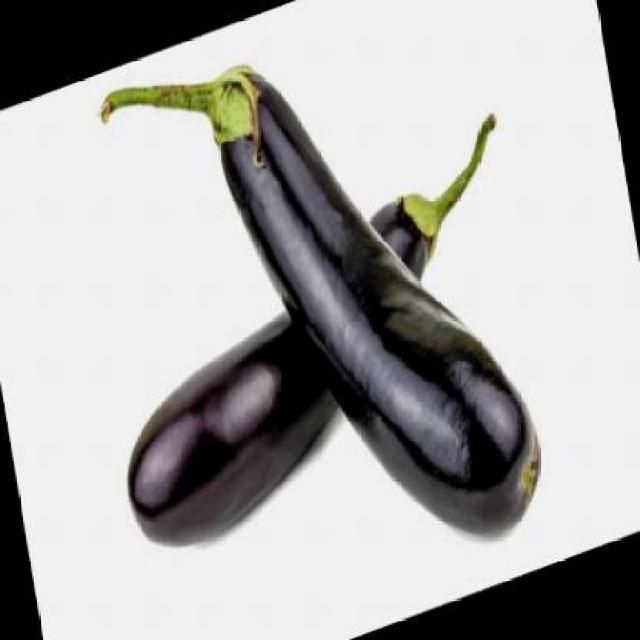eggplant: (96, 61, 546, 551), (89, 110, 546, 566)
